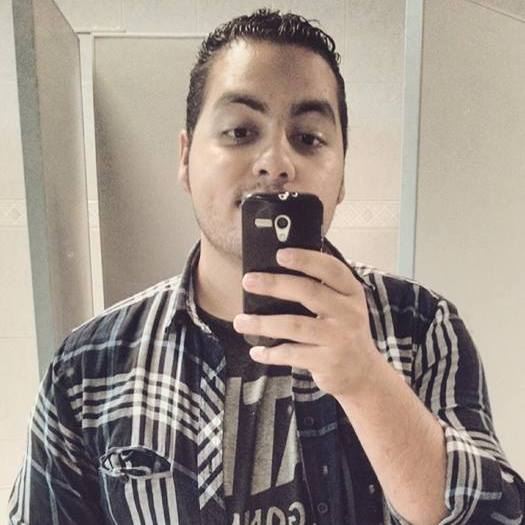Yoshi: (165, 12, 396, 275)
